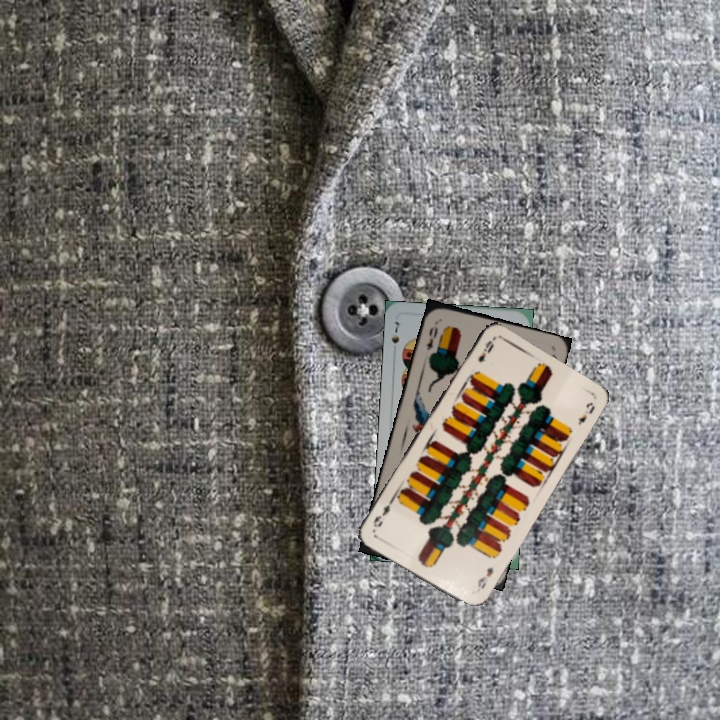E9: (473, 563, 496, 591), (474, 336, 496, 365)
EO: (422, 317, 440, 353)
S7: (387, 317, 402, 357)
